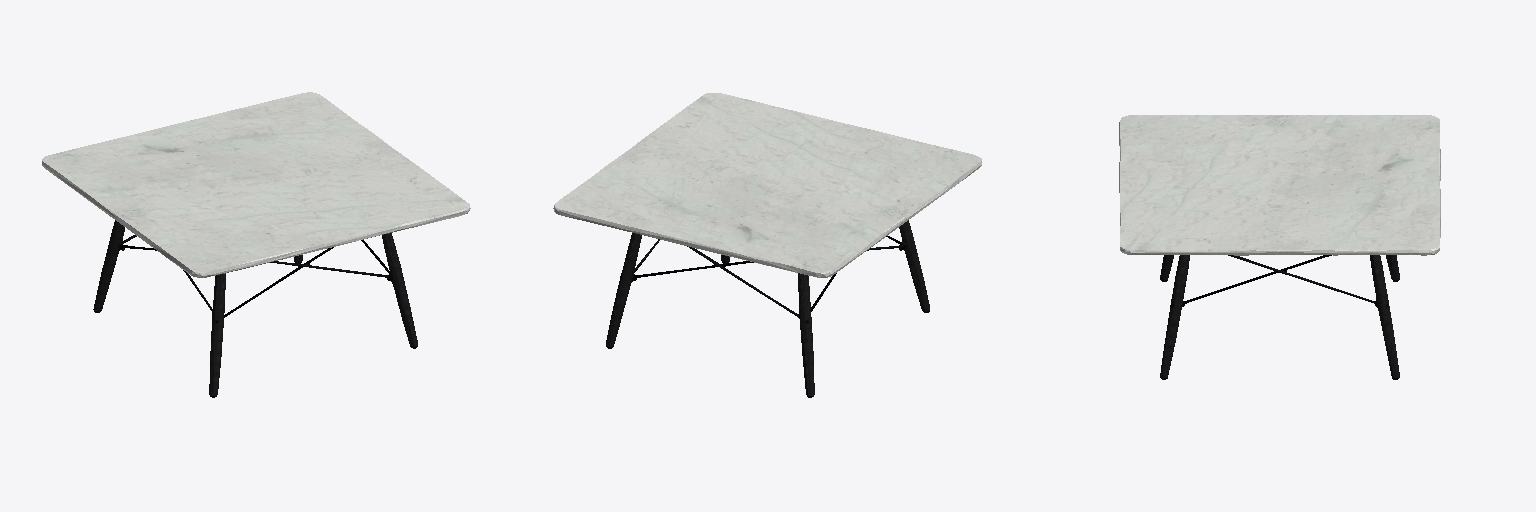
3 views of the same model, side by side, from view 1: azimuth 30°, elevation 25°; view 2: azimuth 150°, elevation 25°; view 3: azimuth 270°, elevation 25° (orthographic).
Parts seen in each view (by area): view 1: mesh_stol; view 2: mesh_stol; view 3: mesh_stol.
Part boxes in pixels (bbox=[...]): mesh_stol: bbox=[42, 92, 470, 397]; mesh_stol: bbox=[553, 93, 981, 397]; mesh_stol: bbox=[1119, 115, 1440, 379].
Size of the model in its own units: 54.7 by 27.72 by 54.69.
1 materials, 1 textured.